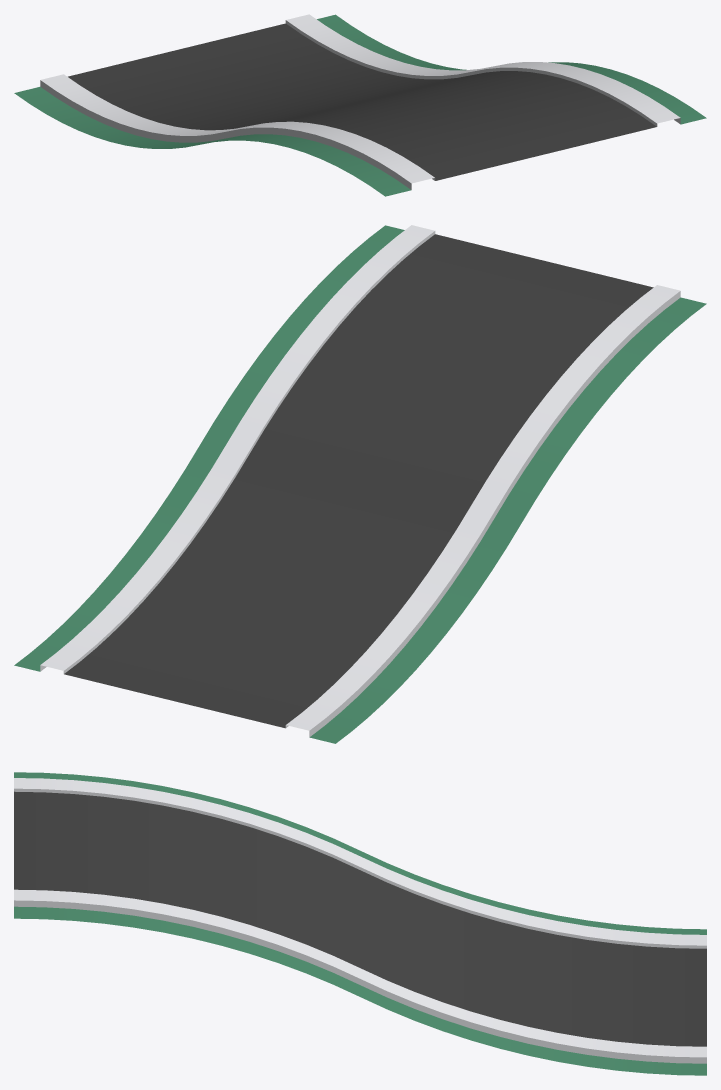
File: roadRampLongCurved.fbx
The picture shows the model from 3 angles, top to bottom: view 1: azimuth 30°, elevation 25°; view 2: azimuth 150°, elevation 25°; view 3: azimuth 270°, elevation 25°; orthographic projection. The views are drawn at different scales.
Parts seen in each view (by area): view 1: roadRampLongCurved; view 2: roadRampLongCurved; view 3: roadRampLongCurved.
Part boxes in pixels (bbox=[...]): roadRampLongCurved: bbox=[14, 14, 706, 196]; roadRampLongCurved: bbox=[14, 225, 706, 743]; roadRampLongCurved: bbox=[14, 772, 706, 1075].
Size of the model in its own units: 10 by 5.2 by 20.
